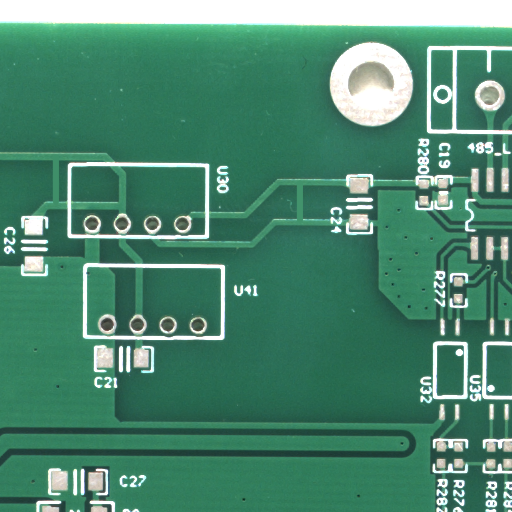Short: (56, 181, 67, 229), (300, 202, 309, 242)
